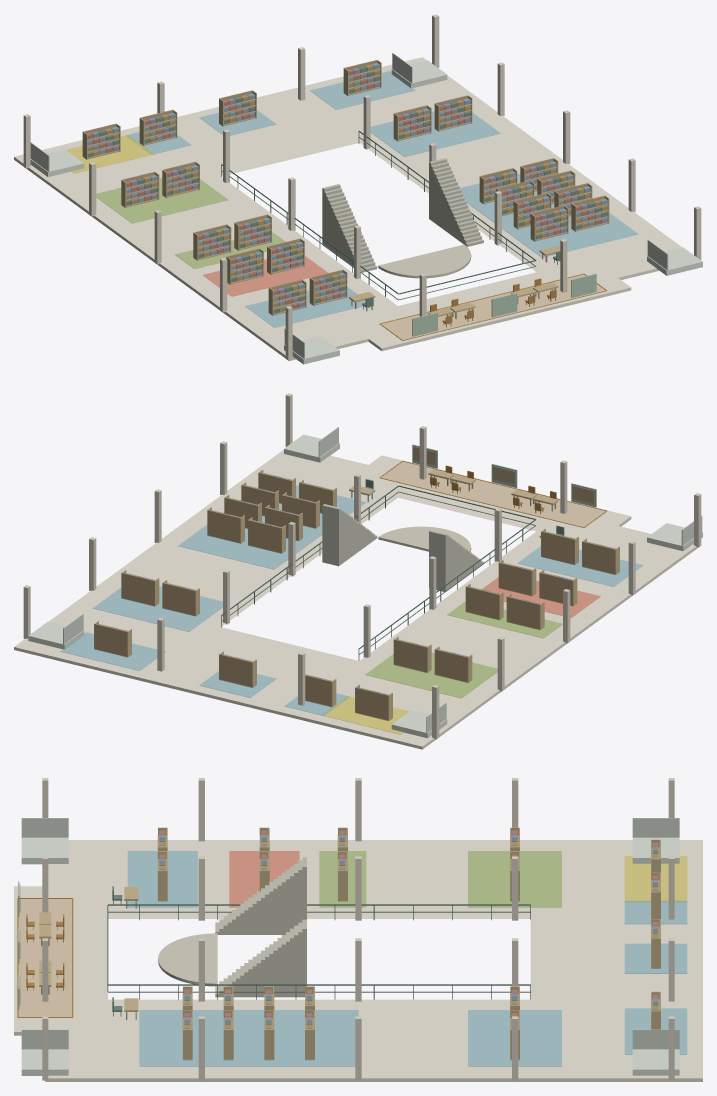
The model's file is 图书馆_3楼_试点启用.glb.
The picture shows the model from 3 angles, top to bottom: view 1: azimuth 30°, elevation 25°; view 2: azimuth 150°, elevation 25°; view 3: azimuth 270°, elevation 25°; orthographic projection. The views are drawn at different scales.
Visible parts, largest first — view 1: guide_outline_floor_slab, guide_function_tint (×10), corner_service_room (×4), proposed_candidate_zone, photo_guided_curved_landing; view 2: guide_outline_floor_slab, rack_back (×22), guide_function_tint (×9), proposed_candidate_zone, corner_service_room (×4), central_stair_tread (×2), photo_guided_curved_landing; view 3: guide_outline_floor_slab, guide_function_tint (×10), proposed_candidate_zone, corner_service_room (×4), service_partition (×4), photo_guided_curved_landing, atrium_rail_top (×2), atrium_rail_lower (×2).
Part boxes in pixels (left/top/right/bottom): guide_outline_floor_slab: left=14, top=57, right=682, bottom=360; guide_function_tint (×10): left=66, top=71, right=638, bottom=327; corner_service_room (×4): left=30, top=60, right=702, bottom=364; proposed_candidate_zone: left=382, top=274, right=605, bottom=339; photo_guided_curved_landing: left=378, top=244, right=471, bottom=278; guide_outline_floor_slab: left=14, top=449, right=697, bottom=749; rack_back (×22): left=94, top=472, right=615, bottom=720; guide_function_tint (×9): left=60, top=485, right=642, bottom=734; proposed_candidate_zone: left=381, top=462, right=604, bottom=526; corner_service_room (×4): left=28, top=434, right=702, bottom=738; central_stair_tread (×2): left=322, top=504, right=447, bottom=591; photo_guided_curved_landing: left=378, top=526, right=471, bottom=551; guide_outline_floor_slab: left=14, top=840, right=702, bottom=1081; guide_function_tint (×10): left=127, top=851, right=687, bottom=1066; proposed_candidate_zone: left=19, top=899, right=71, bottom=1016; corner_service_room (×4): left=21, top=837, right=679, bottom=1075; service_partition (×4): left=21, top=818, right=679, bottom=1049; photo_guided_curved_landing: left=158, top=933, right=217, bottom=986; atrium_rail_top (×2): left=108, top=904, right=530, bottom=985; atrium_rail_lower (×2): left=108, top=911, right=530, bottom=992.
Bounding box in the file's own units: 36.4 × 4.9 × 44.
